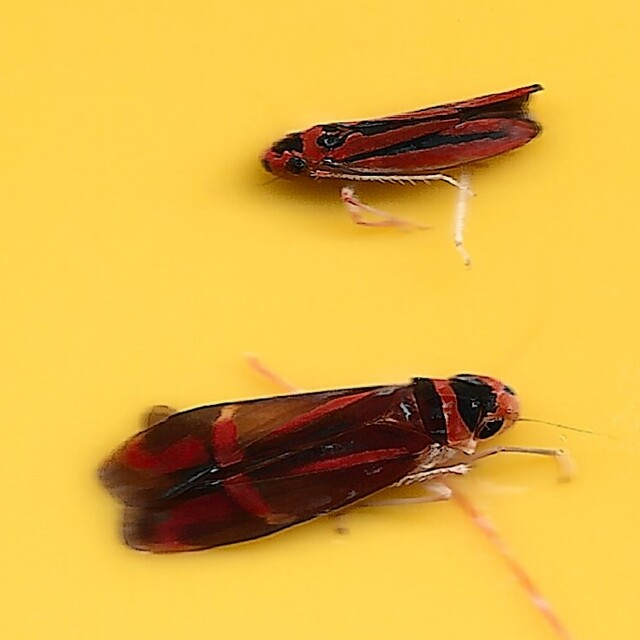Hemiptera: (94, 369, 523, 559), (259, 81, 546, 262)
